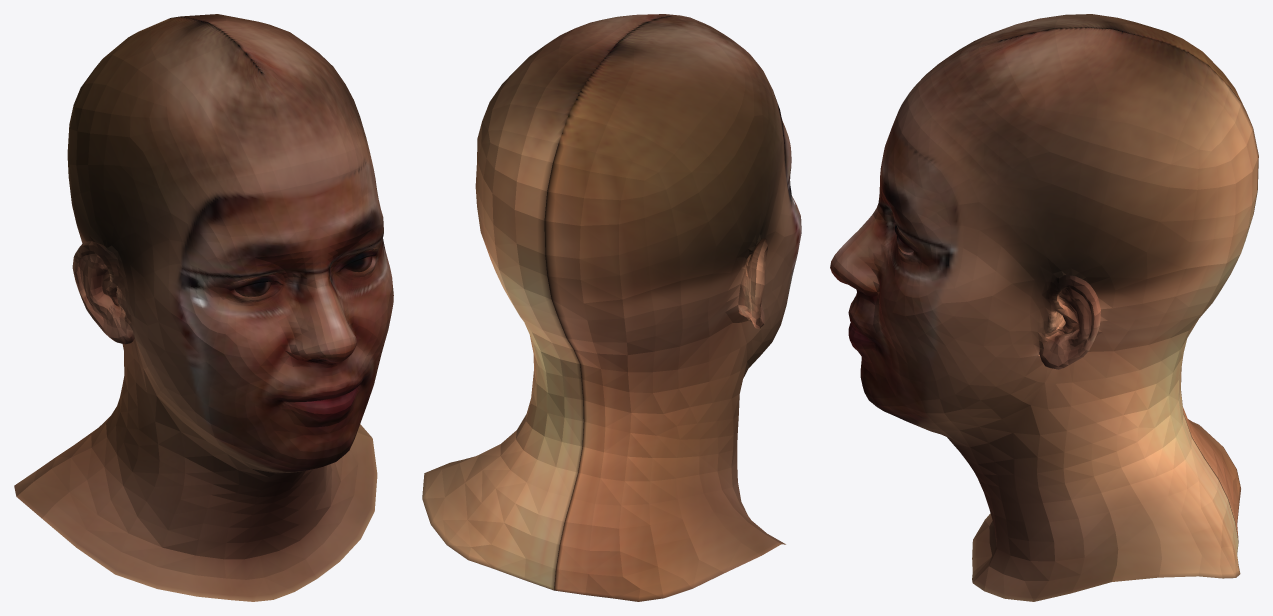
3 renders of one model, left to right at view 1: azimuth 30°, elevation 25°; view 2: azimuth 150°, elevation 25°; view 3: azimuth 270°, elevation 25°, orthographic. The views are drawn at different scales.
Visible parts, largest first — view 1: 1717404309; view 2: 1717404309; view 3: 1717404309.
Boxes of the visible parts, <box> form: 1717404309: <box>14,14,393,601</box>; 1717404309: <box>422,14,801,601</box>; 1717404309: <box>830,14,1258,601</box>.
Size of the model in its own units: 21.27 by 32.05 by 22.83.
1 material, 1 textured.
